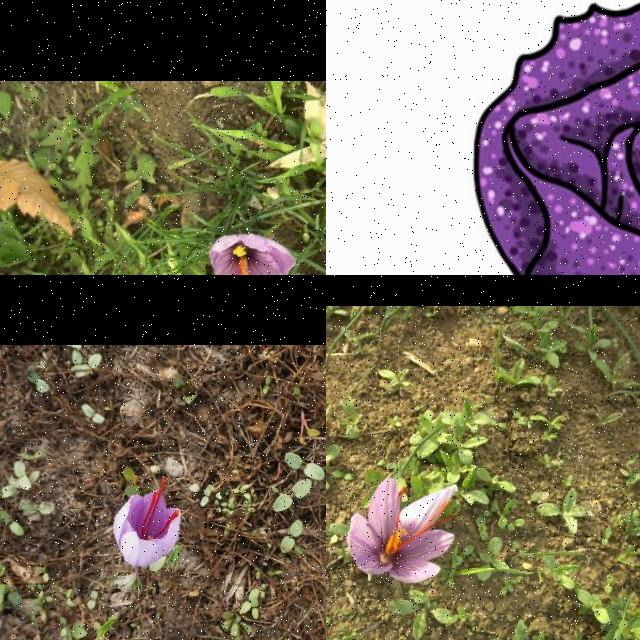flower: (347, 476, 458, 584), (113, 476, 181, 568), (209, 233, 297, 275)
